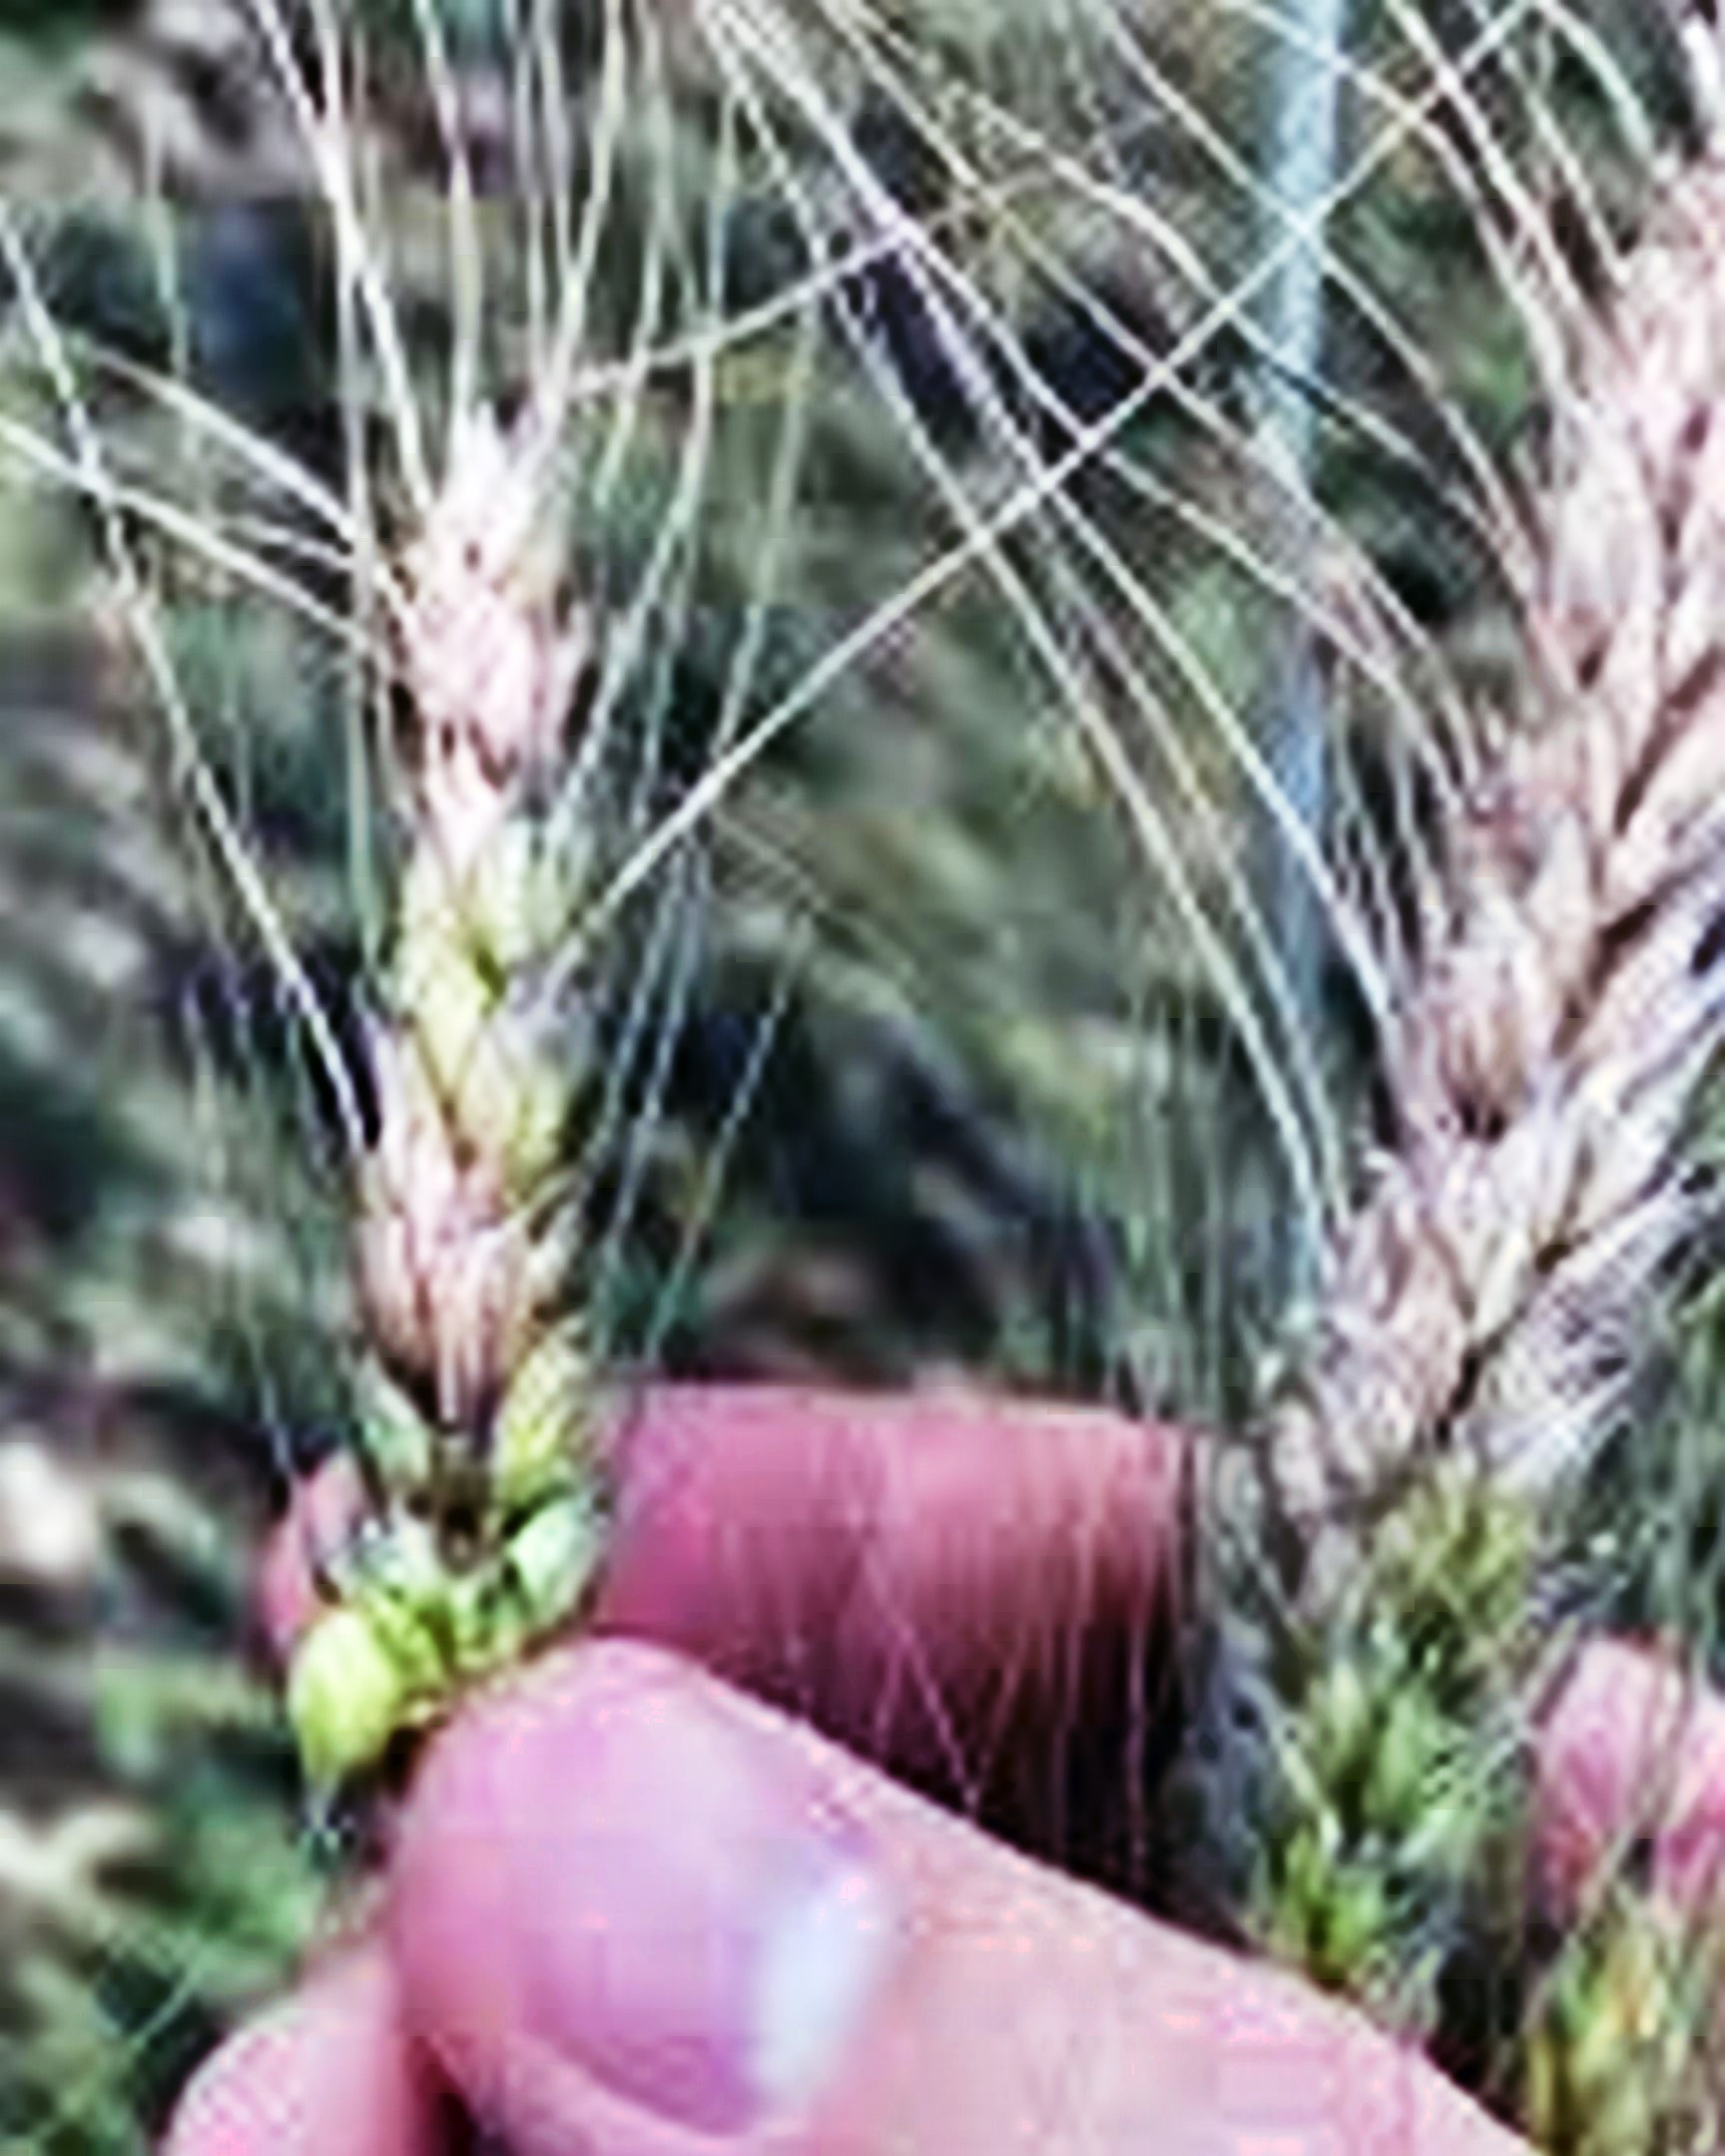Wheat scab: (197, 382, 704, 1684)
